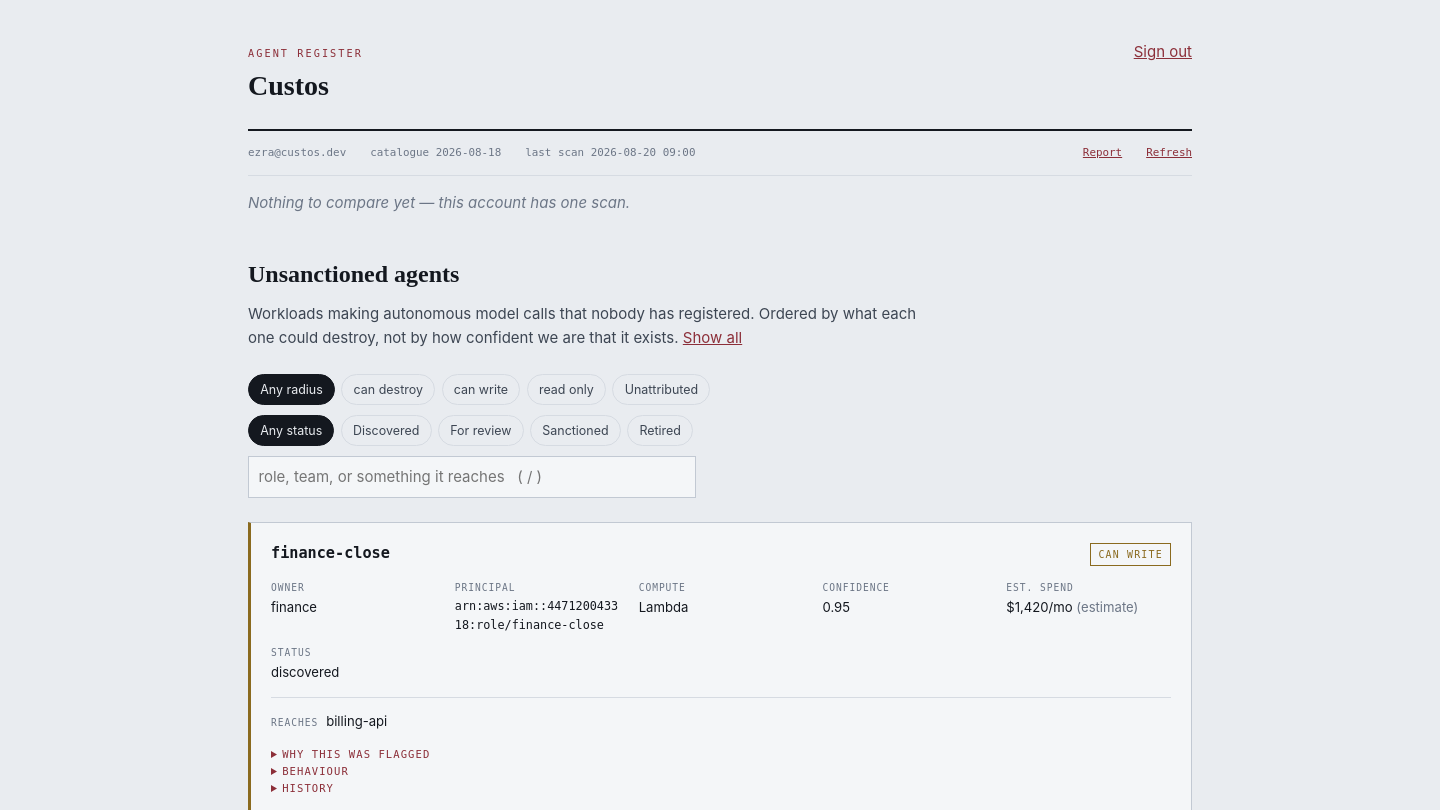
Test: granting › does nothing on cancel
This screenshot has width=1440, height=810.
Expected: the heading "finance-close" is shown, [271,541,390,565]
Click the heading "Why this was flagged".
click(356, 754)  # box [282,748,430,760]
(page scrolled)
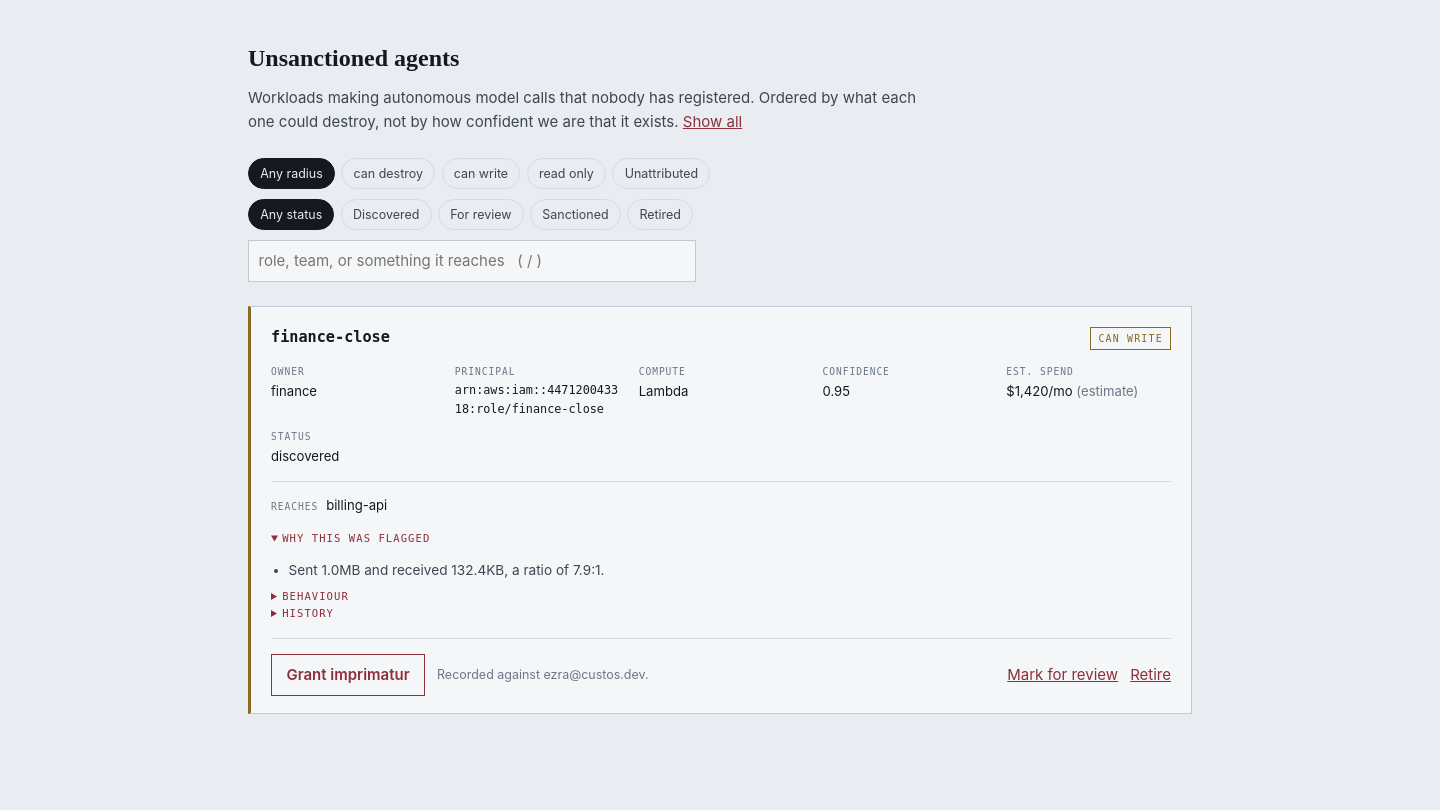
Click the button "Grant imprimatur".
click(348, 675)  # box [271,654,425,696]
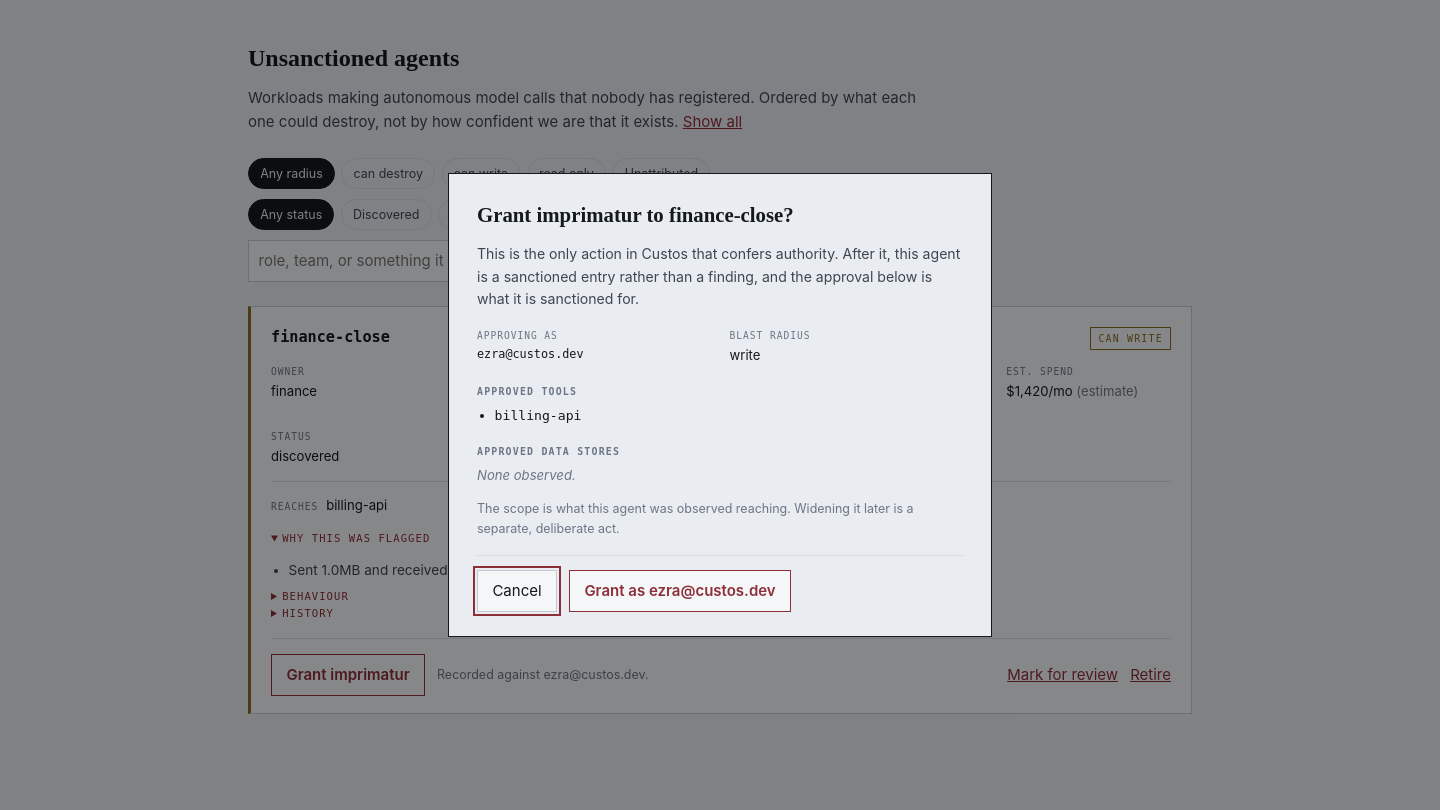
Click the button "Cancel".
click(517, 591)  # box [477,570,557,612]
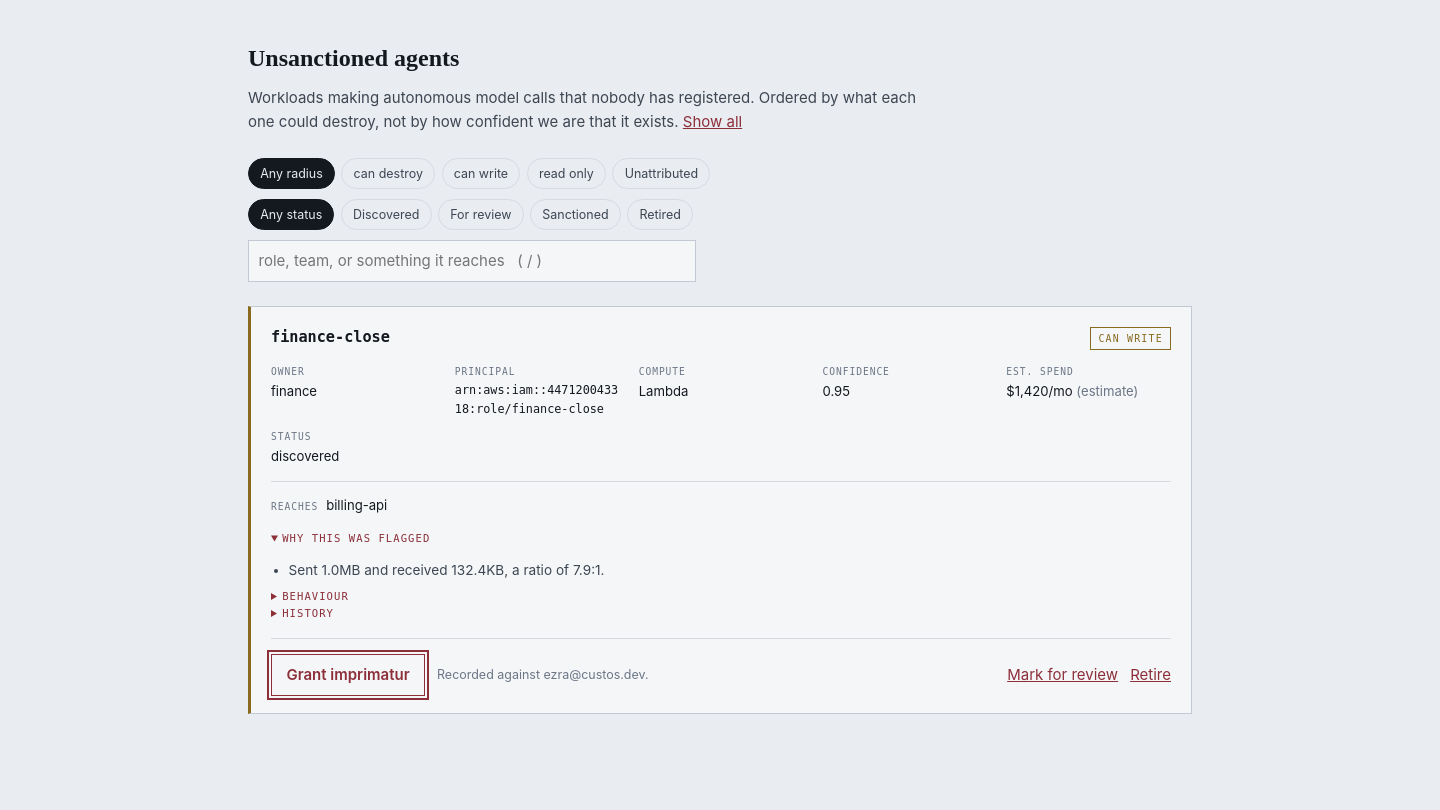
Now the dialog is gone
